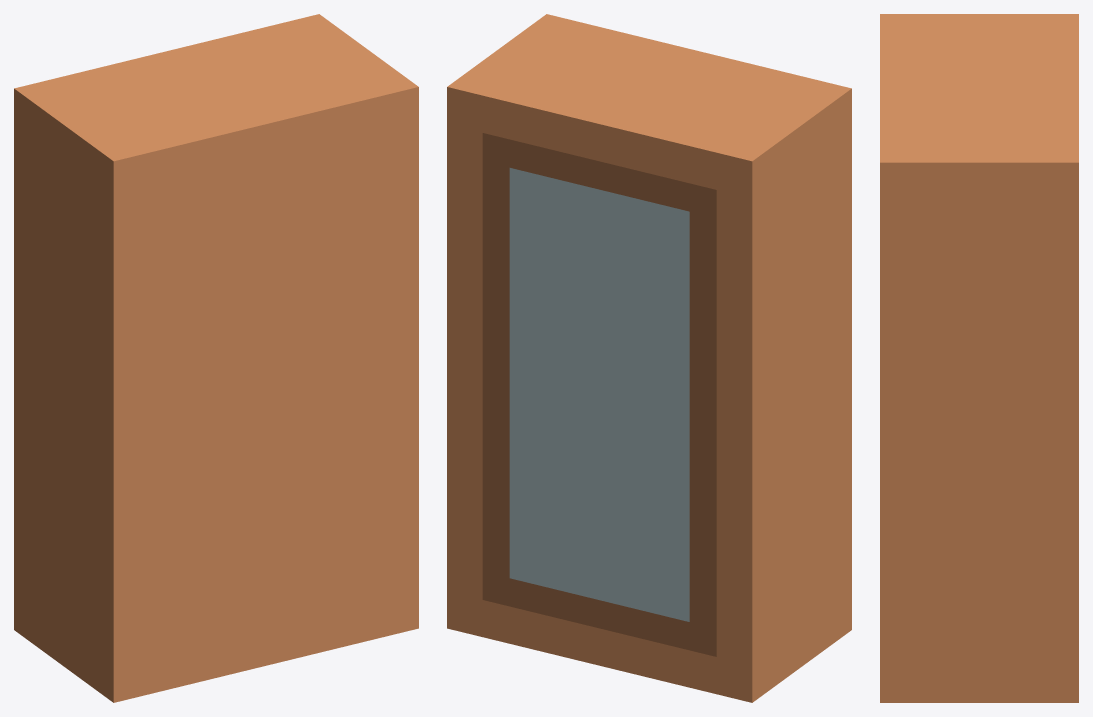
Rendered from bathroomCabinet.obj.
3 renders of one model, left to right at view 1: azimuth 30°, elevation 25°; view 2: azimuth 150°, elevation 25°; view 3: azimuth 270°, elevation 25°, orthographic.
Parts seen in each view (by area): view 1: bathroomCabinet; view 2: bathroomCabinet, door; view 3: bathroomCabinet.
Boxes of the visible parts, left/top/right/bottom form: bathroomCabinet: left=14, top=14, right=418, bottom=702; bathroomCabinet: left=447, top=14, right=851, bottom=702; door: left=482, top=133, right=716, bottom=656; bathroomCabinet: left=880, top=14, right=1078, bottom=702.
Size of the model in its own units: 0.23 by 0.39 by 0.13.
